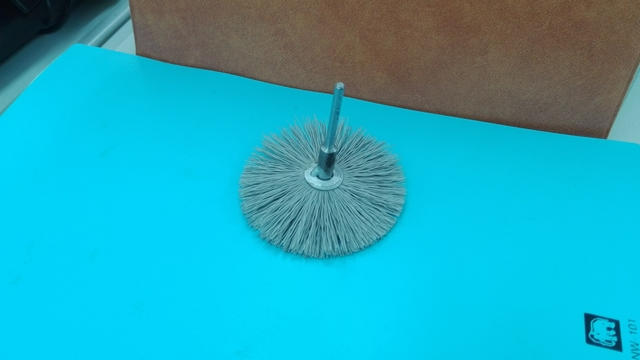TOOL: (172, 45, 465, 297), (231, 87, 432, 255), (245, 78, 392, 274)
